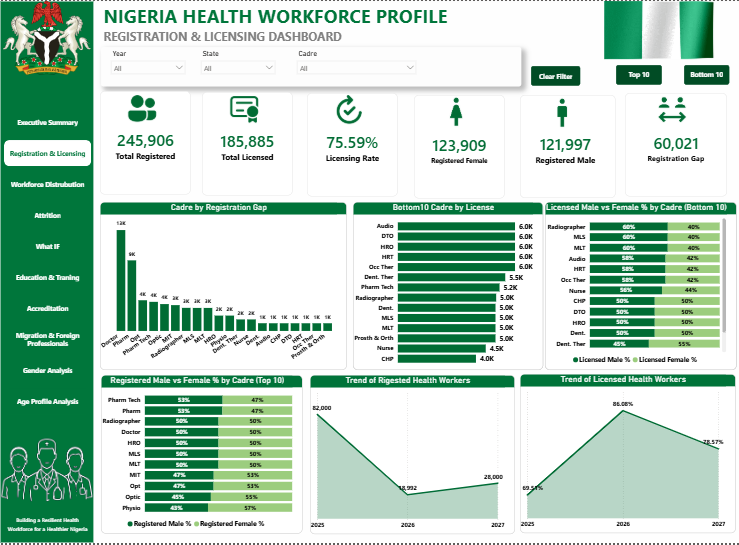

This screenshot's page, from the dashboard's own definition file:
{"tool":"powerbi","page":{"name":"Registration & Licensing","canvas":[1500,1100],"ordinal":2},"visuals":[{"type":"shape","box":[0,0,1499.5,1100],"z":0},{"type":"shape","box":[0,0,190,1100],"z":1000},{"type":"image","box":[0,880,190,152],"z":2000},{"type":"textbox","box":[6,1039,184,61],"z":3000},{"type":"image","box":[0,0,189.9,151.3],"z":4000},{"type":"textbox","box":[204.2,0,729.9,75.2],"z":5000},{"type":"textbox","box":[204,51,530,58],"z":6000},{"type":"shape","box":[204.2,93.1,852.5,79.7],"z":7000},{"type":"slicer","fields":{"Values":["Dim Year.Year"]},"box":[214.9,93.1,171,58.2],"z":8000},{"type":"slicer","fields":{"Values":["Dim State.State"]},"box":[398.5,93.1,171,58.2],"z":9000},{"type":"slicer","fields":{"Values":["Dim Cadre.Cadre"]},"box":[592.8,93.1,262.4,58.2],"z":10000},{"type":"actionButton","box":[1078,131,100,40],"z":11000},{"type":"barChart","title":"Top 10 Cadre by License","fields":{"Category":["Dim Cadre.Cadre Abb"],"Y":["DAX.Total Licensed"]},"box":[715.5,407.7,385.8,340.7],"z":12000},{"type":"clusteredColumnChart","title":"Cadre by  Registration Gap ","fields":{"Category":["Dim Cadre.Cadre Abb"],"Y":["DAX.Registration Gap"]},"box":[203.9,407.7,500.7,340.7],"z":13000},{"type":"shape","box":[202,183,184,210],"z":14000,"group":"g1"},{"type":"shape","box":[409.1,184.7,184,210],"z":14000,"group":"g3"},{"type":"shape","box":[622.5,186.1,184,210],"z":14000,"group":"g4"},{"type":"shape","box":[1267.9,186.1,207.2,210],"z":14000,"group":"g2"},{"type":"shape","box":[1055.9,189.9,194.3,209.3],"z":14000,"group":"g5"},{"type":"shape","box":[840,190.2,184,210],"z":14000,"group":"g6"},{"type":"barChart","title":"Licensed Male vs Female % by Cadre (Top 10)","fields":{"Category":["Dim Cadre.Cadre Abb"],"Y":["DAX.Licensed Male %","DAX.Licensed Female %"]},"box":[1105.5,407.7,388.6,340.7],"z":14000},{"type":"group","id":"g1","title":"Group 1","box":[202,183,184,210],"z":15000},{"type":"group","id":"g2","title":"Group 1","box":[1267.9,186.1,208,209.3],"z":16000},{"type":"group","id":"g3","title":"Group 1","box":[409.1,184.7,183.3,210.7],"z":17000},{"type":"group","id":"g4","title":"Group 1","box":[622.5,186.1,184.7,209.3],"z":18000},{"type":"group","id":"g5","title":"Group 1","box":[1055.9,189.9,194.3,209.3],"z":19000},{"type":"group","id":"g6","title":"Group 1","box":[840,190.2,184.7,210.7],"z":20000},{"type":"barChart","title":"Registered Male vs Female % by Cadre (Top 10)","fields":{"Category":["Dim Cadre.Cadre Abb"],"Y":["DAX.Registered Male %","DAX.Registered Female %"]},"box":[204,760,409,322],"z":21000},{"type":"areaChart","title":"Trend of Licensed Health Workers","fields":{"Category":["Dim Year.Year"],"Y":["DAX.Licensing Rate"]},"box":[1056.2,758,437.8,322.9],"z":22000},{"type":"areaChart","title":"Trend of Rigested Health Workers","fields":{"Category":["Dim Year.Year"],"Y":["DAX.Total Registered"]},"box":[629.4,759.3,415.9,322.9],"z":23000},{"type":"actionButton","box":[1387.3,130,91.7,39.7],"z":24000},{"type":"actionButton","box":[1250.5,130,93,39.7],"z":25000},{"type":"image","box":[1187.6,0,311.9,117.7],"z":26000},{"type":"pageNavigator","box":[9.1,218.2,177.3,621.8],"z":27000},{"type":"cardVisual","fields":{"Data":["DAX.Total Registered"]},"box":[202,231,184,122],"z":28000,"group":"g1"},{"type":"cardVisual","fields":{"Data":["DAX.Total Licensed"]},"box":[409.1,232.7,184,122],"z":28000,"group":"g3"},{"type":"cardVisual","fields":{"Data":["DAX.Licensing Rate"]},"box":[622.5,234.1,184,122],"z":28000,"group":"g4"},{"type":"cardVisual","fields":{"Data":["DAX.Registration Gap"]},"box":[1267.9,234.1,207.2,122],"z":28000,"group":"g2"},{"type":"cardVisual","fields":{"Data":["DAX.Registered Male"]},"box":[1056.2,238.1,184,122],"z":28000,"group":"g5"},{"type":"cardVisual","fields":{"Data":["DAX.Registered Female"]},"box":[840,238.2,184,122],"z":28000,"group":"g6"},{"type":"barChart","title":"Bottom10 Cadre by License","fields":{"Category":["Dim Cadre.Cadre Abb"],"Y":["DAX.Total Licensed"]},"box":[715.5,407.7,385.8,340.7],"z":28000},{"type":"image","box":[250,184,73,68],"z":29000,"group":"g1"},{"type":"image","box":[457.1,185.7,73,68],"z":29000,"group":"g3"},{"type":"image","box":[670.5,187.1,73,68],"z":29000,"group":"g4"},{"type":"image","box":[1321.9,187.1,82.2,68],"z":29000,"group":"g2"},{"type":"image","box":[1104.2,191.1,73,68],"z":29000,"group":"g5"},{"type":"image","box":[888,191.2,73,68],"z":29000,"group":"g6"},{"type":"barChart","title":"Licensed Male vs Female % by Cadre (Bottom 10)","fields":{"Category":["Dim Cadre.Cadre Abb"],"Y":["DAX.Licensed Male %","DAX.Licensed Female %"]},"box":[1105.5,407.7,388.6,340.7],"z":29000}]}

Visuals, with their boxes in screenshot pixels (x1, y1, x2, y2), scaled from the page's 1500x1100 canvas onto the 739x545 screenshot:
shape: l=0, t=0, r=738, b=544
shape: l=0, t=0, r=94, b=544
image: l=0, t=436, r=94, b=511
textbox: l=3, t=515, r=94, b=544
image: l=0, t=0, r=94, b=75
textbox: l=101, t=0, r=460, b=37
textbox: l=101, t=25, r=362, b=54
shape: l=101, t=46, r=521, b=86
slicer - Dim Year.Year: l=106, t=46, r=190, b=75
slicer - Dim State.State: l=196, t=46, r=281, b=75
slicer - Dim Cadre.Cadre: l=292, t=46, r=421, b=75
actionButton: l=531, t=65, r=580, b=85
"Top 10 Cadre by License" barChart: l=353, t=202, r=543, b=371
"Cadre by  Registration Gap " clusteredColumnChart: l=100, t=202, r=347, b=371
shape: l=100, t=91, r=190, b=195
shape: l=202, t=92, r=292, b=196
shape: l=307, t=92, r=397, b=196
shape: l=625, t=92, r=727, b=196
shape: l=520, t=94, r=616, b=198
shape: l=414, t=94, r=504, b=198
"Licensed Male vs Female % by Cadre (Top 10)" barChart: l=545, t=202, r=736, b=371
"Group 1" group: l=100, t=91, r=190, b=195
"Group 1" group: l=625, t=92, r=727, b=196
"Group 1" group: l=202, t=92, r=292, b=196
"Group 1" group: l=307, t=92, r=398, b=196
"Group 1" group: l=520, t=94, r=616, b=198
"Group 1" group: l=414, t=94, r=505, b=199
"Registered Male vs Female % by Cadre (Top 10)" barChart: l=101, t=377, r=302, b=536
"Trend of Licensed Health Workers" areaChart: l=520, t=376, r=736, b=536
"Trend of Rigested Health Workers" areaChart: l=310, t=376, r=515, b=536
actionButton: l=683, t=64, r=729, b=84
actionButton: l=616, t=64, r=662, b=84
image: l=585, t=0, r=738, b=58
pageNavigator: l=4, t=108, r=92, b=416
cardVisual - DAX.Total Registered: l=100, t=114, r=190, b=175
cardVisual - DAX.Total Licensed: l=202, t=115, r=292, b=176
cardVisual - DAX.Licensing Rate: l=307, t=116, r=397, b=176
cardVisual - DAX.Registration Gap: l=625, t=116, r=727, b=176
cardVisual - DAX.Registered Male: l=520, t=118, r=611, b=178
cardVisual - DAX.Registered Female: l=414, t=118, r=504, b=178
"Bottom10 Cadre by License" barChart: l=353, t=202, r=543, b=371
image: l=123, t=91, r=159, b=125
image: l=225, t=92, r=261, b=126
image: l=330, t=93, r=366, b=126
image: l=651, t=93, r=692, b=126
image: l=544, t=95, r=580, b=128
image: l=437, t=95, r=473, b=128
"Licensed Male vs Female % by Cadre (Bottom 10)" barChart: l=545, t=202, r=736, b=371
